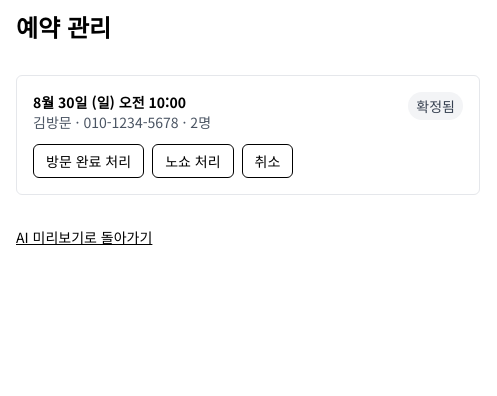
Test case: ReservationsPage - 방문 완료 후 매출 기록 › 나중에를 누르면 Transaction을 만들지 않고 방문 완료 상태만 유지된다
Expected: the text "김방문 · 010-1234-5678 · 2명" is shown, top-left (33, 112), bottom-right (211, 132)
Click the button "방문 완료 처리".
click(89, 161)  # box top-left (33, 144), bottom-right (144, 178)
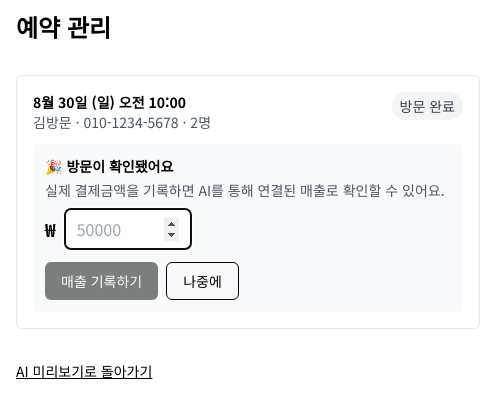
Expected: the text "🎉 방문이 확인됐어요" is shown, top-left (45, 156), bottom-right (173, 176)
Click the button "나중에".
click(202, 281)  # box top-left (166, 262), bottom-right (239, 300)
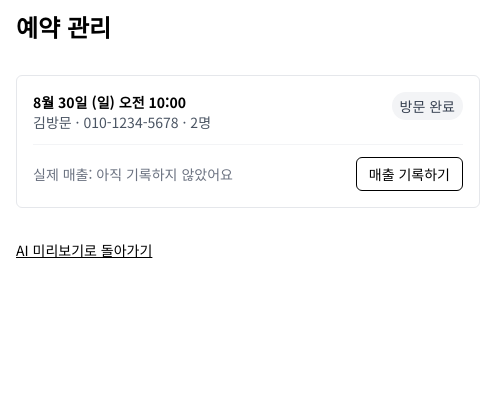
Expected: the button "매출 기록하기" is shown, top-left (356, 157), bottom-right (463, 191)
Expected: the text "실제 매출: 아직 기록하지 않았어요" is shown, top-left (33, 164), bottom-right (233, 184)
